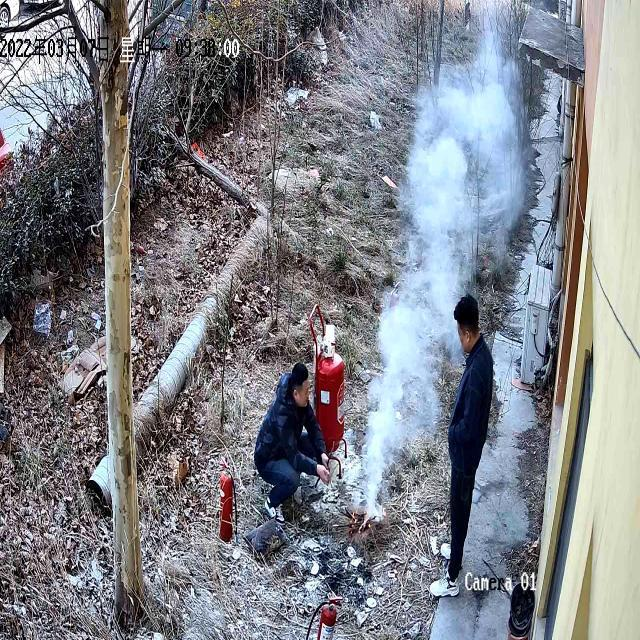Smoke: (370, 4, 566, 281), (353, 283, 446, 532)
